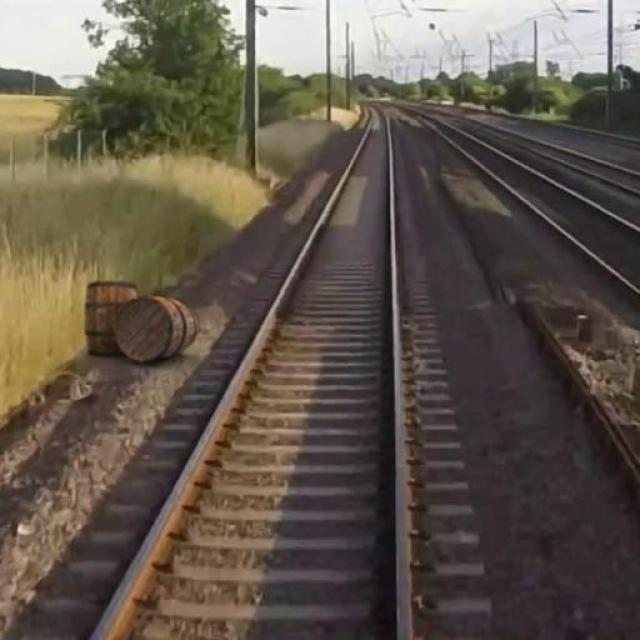Other_objects: (78, 269, 198, 358)
